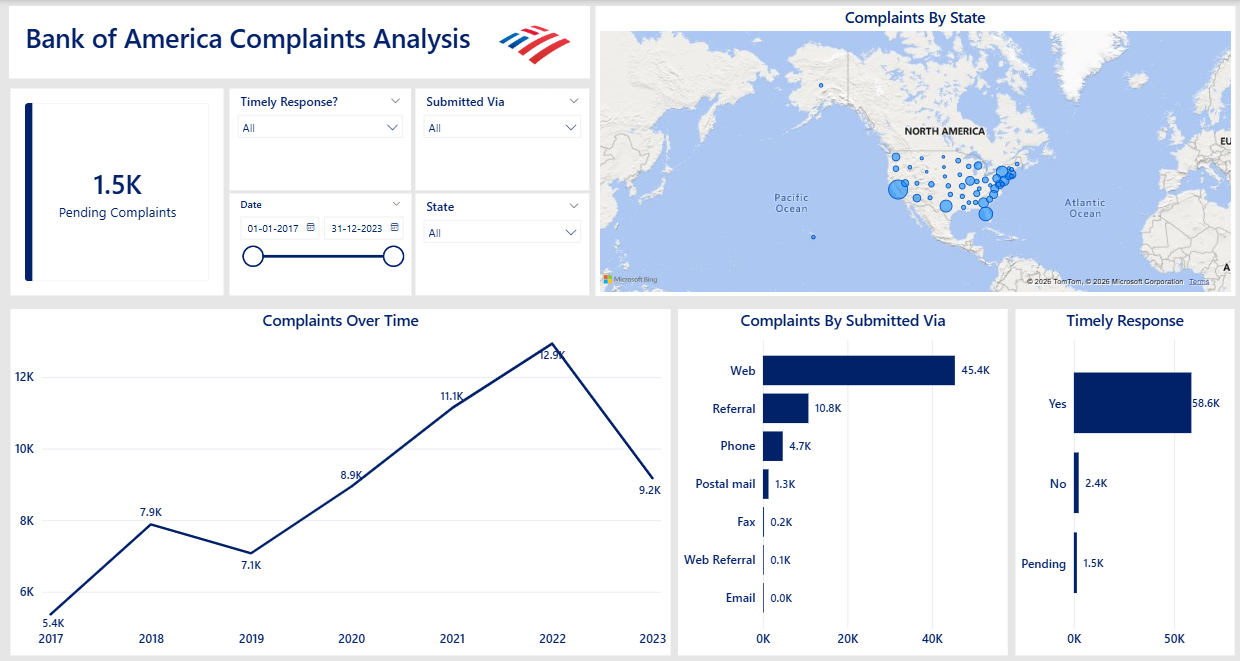

This screenshot's page, from the dashboard's own definition file:
{"tool":"powerbi","page":{"name":"Complaints","canvas":[1500,800],"ordinal":0},"visuals":[{"type":"barChart","title":"Complaints By Submitted Via","fields":{"Category":["Submitted_Via_Dim.Submitted Via"],"Y":["Fact.Overall_Submitted_Via"]},"box":[816.9,372.3,397.6,417.5],"z":0},{"type":"shape","box":[10.9,7.3,700,87.4],"z":1000},{"type":"textbox","box":[25.5,18.2,652.2,60.1],"z":2000},{"type":"map","title":"Complaints By State","fields":{"Category":["State_Dim.State"],"Size":["Fact.Overall_Submitted_Via"]},"box":[717.5,7.2,769.9,348.8],"z":3000},{"type":"barChart","title":"Timely Response","fields":{"Category":["Timely_Response_Dim.Timely Response?"],"Y":["CountNonNull(Fact.Timely Response?)"]},"box":[1223.5,372.3,263.9,417.5],"z":4000},{"type":"lineChart","title":"Complaints Over Time","fields":{"Y":["Fact.Measure"],"Category":["Table.Date.Variation.Date Hierarchy.Year","Table.Date.Variation.Date Hierarchy.Quarter","Table.Date.Variation.Date Hierarchy.Month","Table.Date.Variation.Date Hierarchy.Day"]},"box":[12.7,372.3,795.2,417.5],"z":5000},{"type":"cardVisual","fields":{"Data":["CountNonNull(Fact.Company Response to Consumer)"]},"box":[12.7,106.6,256.6,249.4],"z":6000},{"type":"image","box":[578.3,7.2,131.9,86.7],"z":7000},{"type":"slicer","fields":{"Values":["Timely_Response_Dim.Timely Response?"]},"box":[276.5,106.6,218.7,122.9],"z":8000},{"type":"slicer","fields":{"Values":["Submitted_Via_Dim.Submitted Via"]},"box":[500.6,106.6,209.6,122.9],"z":9000},{"type":"slicer","fields":{"Values":["State_Dim.State"]},"box":[500.6,233.1,209.6,122.9],"z":10000},{"type":"slicer","fields":{"Values":["Table.Date"]},"box":[276.5,233.1,218.7,122.9],"z":11000}]}

Visuals, with their boxes in screenshot pixels (x1, y1, x2, y2), scaled from the page's 1500x800 canvas onto the 1240x661 screenshot:
"Complaints By Submitted Via" barChart: pyautogui.locateOnScreen(675, 308, 1004, 653)
shape: pyautogui.locateOnScreen(9, 6, 588, 78)
textbox: pyautogui.locateOnScreen(21, 15, 560, 65)
"Complaints By State" map: pyautogui.locateOnScreen(593, 6, 1230, 294)
"Timely Response" barChart: pyautogui.locateOnScreen(1011, 308, 1230, 653)
"Complaints Over Time" lineChart: pyautogui.locateOnScreen(10, 308, 668, 653)
cardVisual - CountNonNull(Fact.Company Response to Consumer): pyautogui.locateOnScreen(10, 88, 223, 294)
image: pyautogui.locateOnScreen(478, 6, 587, 78)
slicer - Timely_Response_Dim.Timely Response?: pyautogui.locateOnScreen(229, 88, 409, 190)
slicer - Submitted_Via_Dim.Submitted Via: pyautogui.locateOnScreen(414, 88, 587, 190)
slicer - State_Dim.State: pyautogui.locateOnScreen(414, 193, 587, 294)
slicer - Table.Date: pyautogui.locateOnScreen(229, 193, 409, 294)
